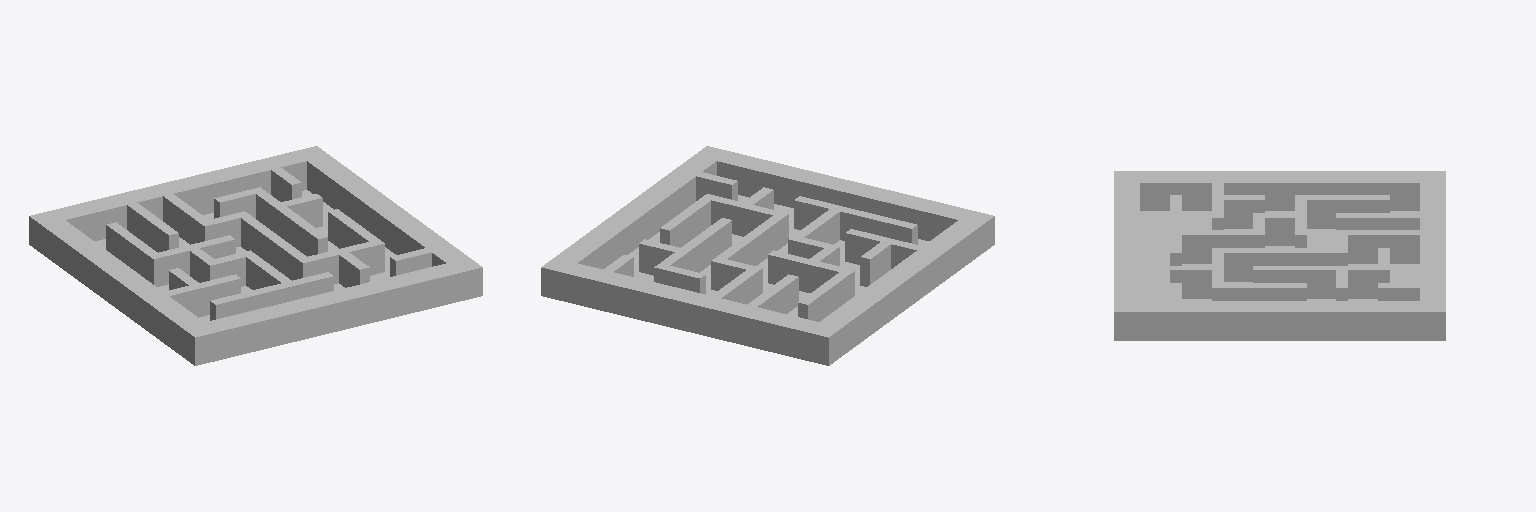
The model's file is maze.obj.
3 views of the same model, side by side, from view 1: azimuth 30°, elevation 25°; view 2: azimuth 150°, elevation 25°; view 3: azimuth 270°, elevation 25° (orthographic).
Parts seen in each view (by area): view 1: Plane_Plane.003; view 2: Plane_Plane.003; view 3: Plane_Plane.003.
Boxes of the visible parts, x1,y1,x2,y2 form: Plane_Plane.003: [29, 146, 482, 365]; Plane_Plane.003: [541, 146, 994, 365]; Plane_Plane.003: [1114, 171, 1445, 340].
Bounding box in the file's own units: 10 × 0.95 × 10.